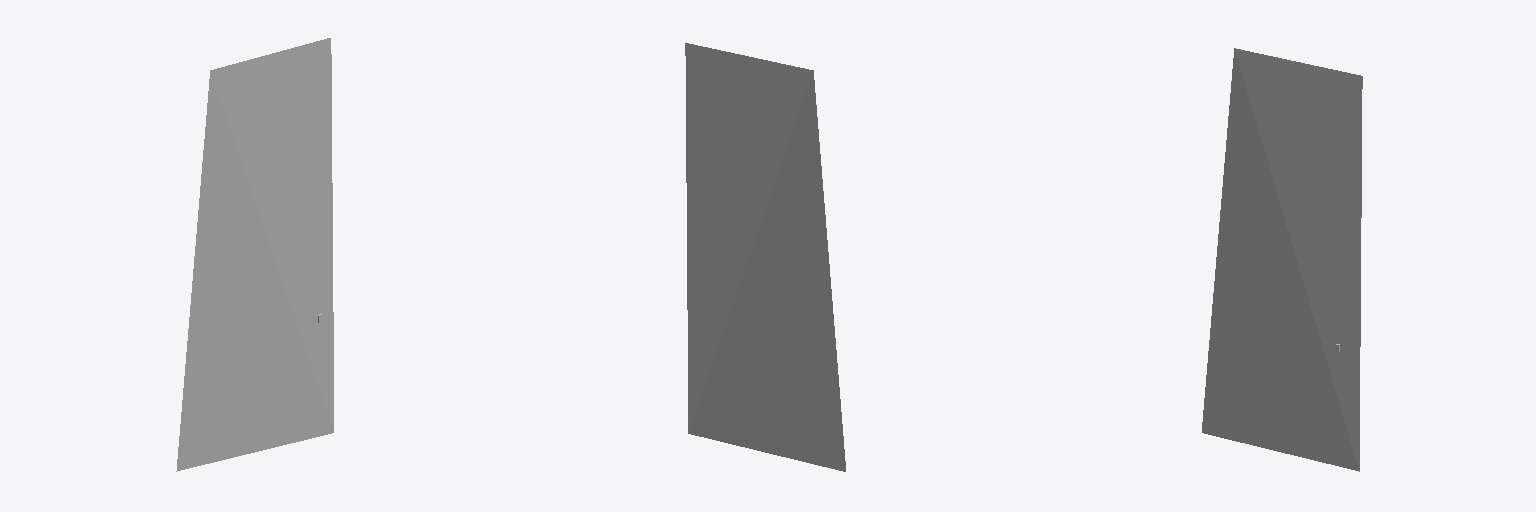
The model's file is Project-SappY.obj.
3 renders of one model, left to right at view 1: azimuth 30°, elevation 25°; view 2: azimuth 150°, elevation 25°; view 3: azimuth 330°, elevation 25°, orthographic.
Bounding box in the file's own units: 148 × 353 × 11.77.